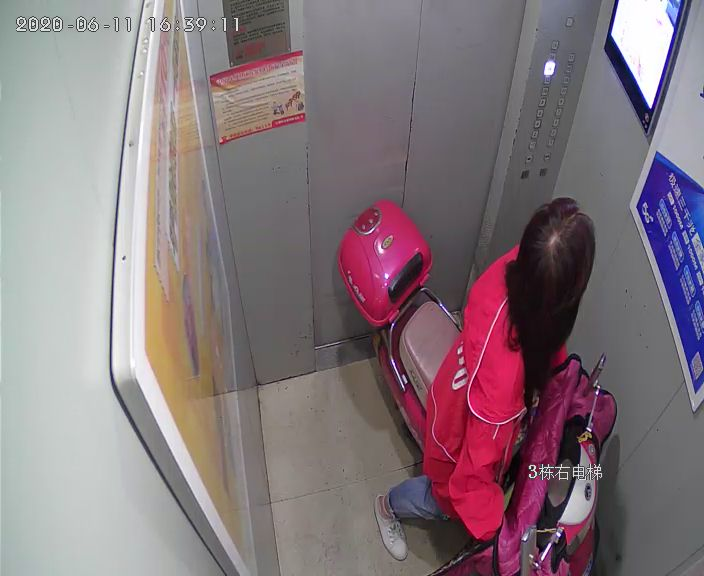Electric-bicycle: (343, 197, 607, 572)
